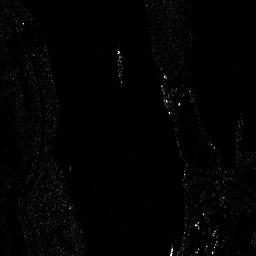ship: (117, 47, 124, 84)
